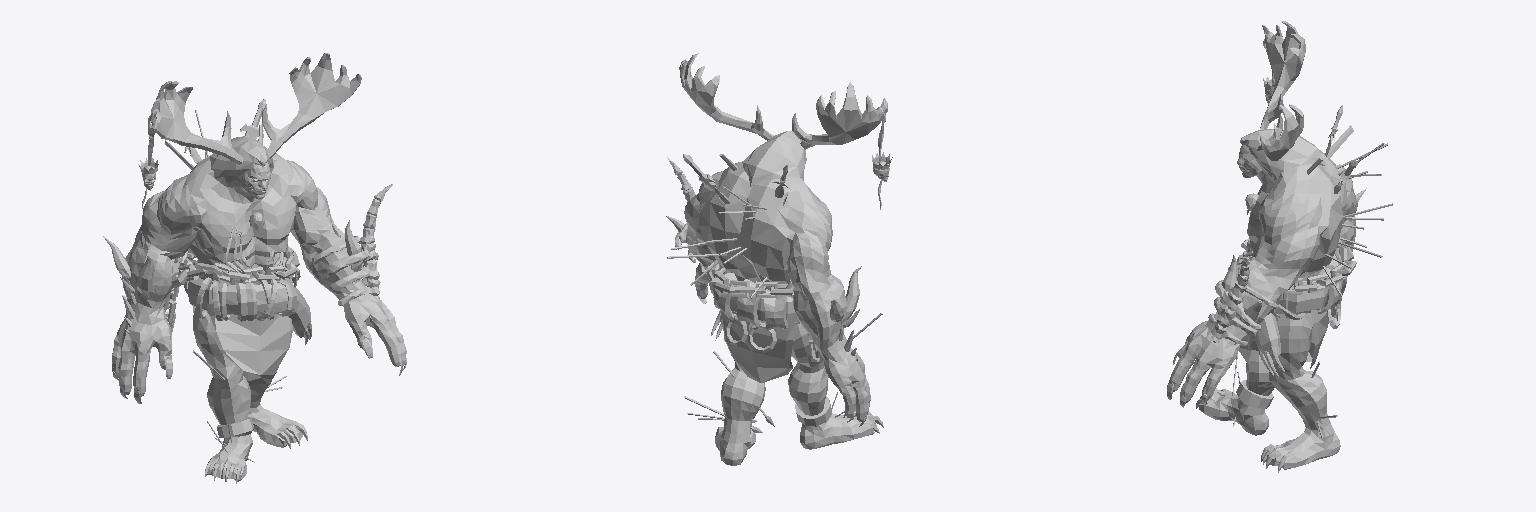
Rendered from walking_000021.obj.
3 renders of one model, left to right at view 1: azimuth 30°, elevation 25°; view 2: azimuth 150°, elevation 25°; view 3: azimuth 270°, elevation 25°, orthographic.
Visible parts, largest first — view 1: MAW; view 2: MAW; view 3: MAW.
Part boxes in pixels (bbox=[...]): MAW: bbox=[103, 53, 406, 483]; MAW: bbox=[666, 53, 892, 465]; MAW: bbox=[1167, 21, 1392, 472].
Size of the model in its own units: 15.03 by 23.22 by 12.29.